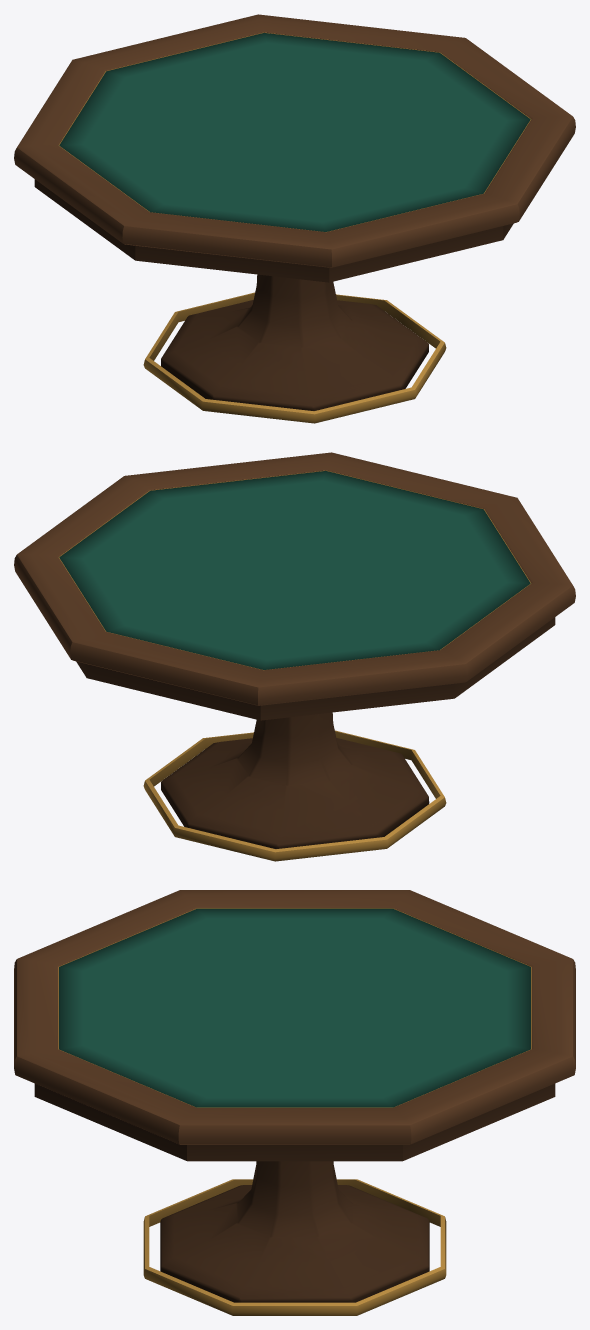
The model's file is table-card.glb.
The picture shows the model from 3 angles, top to bottom: view 1: azimuth 30°, elevation 25°; view 2: azimuth 150°, elevation 25°; view 3: azimuth 270°, elevation 25°; orthographic projection. The views are drawn at different scales.
Visible parts, largest first — view 1: Frame, Felt, Trim; view 2: Frame, Felt, Trim; view 3: Frame, Felt, Trim.
Part boxes in pixels (x1,y1,x2,y2): Frame: (14, 14, 575, 410); Felt: (59, 33, 530, 231); Trim: (58, 32, 531, 423); Frame: (14, 452, 575, 848); Felt: (59, 471, 530, 669); Trim: (58, 470, 531, 861); Frame: (14, 890, 575, 1302); Felt: (59, 908, 530, 1107); Trim: (58, 908, 531, 1315).
Bounding box in the file's own units: 1.54 × 0.7441 × 1.54.
3 materials, 1 textured.
